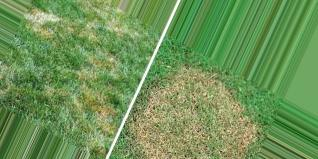patch: (156, 77, 242, 156), (33, 8, 57, 35)
